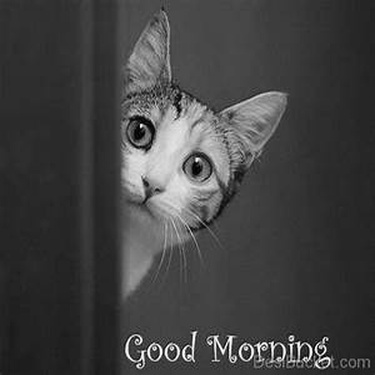cat: (115, 4, 289, 298)
